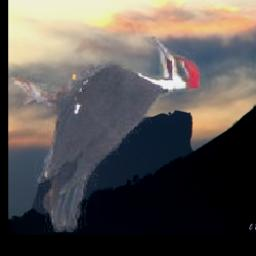Woodpecker: (12, 37, 206, 232)
